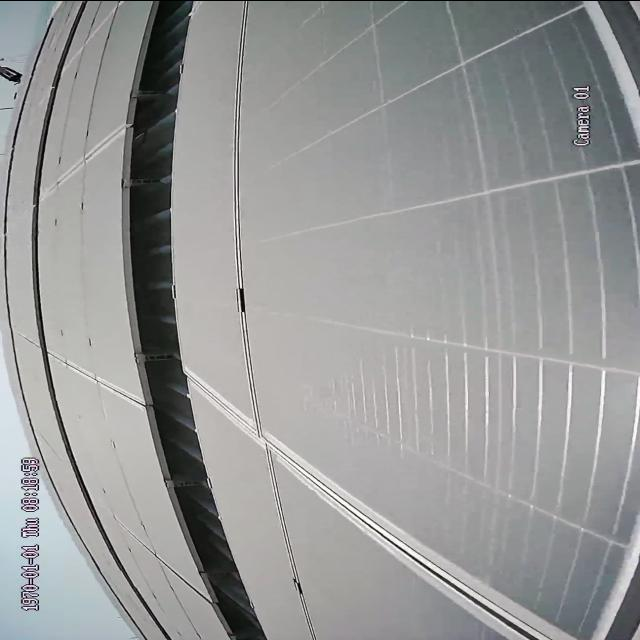interior panel: (200, 5, 570, 638), (113, 513, 199, 598), (46, 121, 118, 198), (56, 352, 137, 408)
outher panel: (123, 0, 271, 640)
